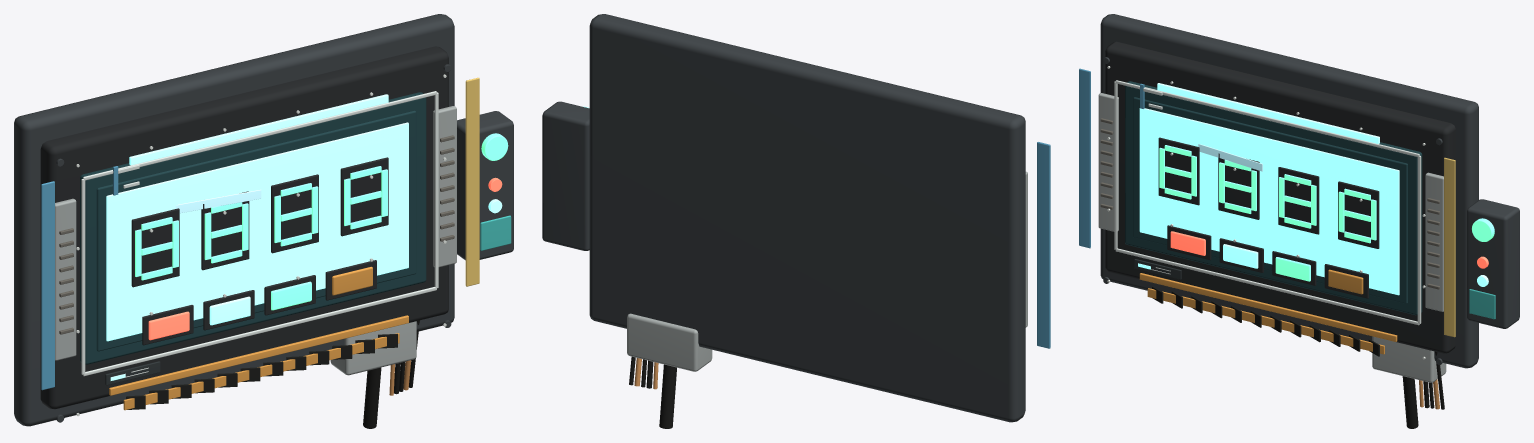
Rendered from hp_terminal_puzzle_big_screen.glb.
3 renders of one model, left to right at view 1: azimuth 30°, elevation 25°; view 2: azimuth 150°, elevation 25°; view 3: azimuth 330°, elevation 25°, orthographic. The views are drawn at different scales.
Parts seen in each view (by area): view 1: terminal_puzzle_big_screen_outer_tv_frame, terminal_puzzle_big_screen_screen_on_panel, terminal_puzzle_big_screen_wall_backplate, terminal_puzzle_big_screen_inner_screen_well, terminal_puzzle_big_screen_screen_off_panel, terminal_puzzle_big_screen_side_power_module, terminal_puzzle_big_screen_right_gold_spine_art_color_block, terminal_puzzle_big_screen_left_speaker_grille, terminal_puzzle_big_screen_left_art_spine_art_color_block, terminal_puzzle_big_screen_right_speaker_grille, terminal_puzzle_big_screen_bottom_warning_rail, terminal_puzzle_big_screen_top_status_rail (+23 smaller); view 2: terminal_puzzle_big_screen_wall_backplate, terminal_puzzle_big_screen_side_power_module, terminal_puzzle_big_screen_lower_cable_box, terminal_puzzle_big_screen_left_art_spine_art_color_block, terminal_puzzle_big_screen_cable_drop; view 3: terminal_puzzle_big_screen_outer_tv_frame, terminal_puzzle_big_screen_screen_on_panel, terminal_puzzle_big_screen_wall_backplate, terminal_puzzle_big_screen_inner_screen_well, terminal_puzzle_big_screen_side_power_module, terminal_puzzle_big_screen_screen_off_panel, terminal_puzzle_big_screen_right_speaker_grille, terminal_puzzle_big_screen_left_speaker_grille, terminal_puzzle_big_screen_left_art_spine_art_color_block, terminal_puzzle_big_screen_right_gold_spine_art_color_block, terminal_puzzle_big_screen_lower_cable_box, terminal_puzzle_big_screen_bottom_warning_rail (+23 smaller).
Part boxes in pixels (x1=…): terminal_puzzle_big_screen_outer_tv_frame: x1=40, y1=46, x2=448, y2=409; terminal_puzzle_big_screen_screen_on_panel: x1=106, y1=122, x2=408, y2=341; terminal_puzzle_big_screen_wall_backplate: x1=14, y1=14, x2=454, y2=426; terminal_puzzle_big_screen_inner_screen_well: x1=80, y1=92, x2=426, y2=364; terminal_puzzle_big_screen_screen_off_panel: x1=96, y1=110, x2=416, y2=351; terminal_puzzle_big_screen_side_power_module: x1=457, y1=111, x2=513, y2=260; terminal_puzzle_big_screen_right_gold_spine_art_color_block: x1=465, y1=77, x2=479, y2=286; terminal_puzzle_big_screen_left_speaker_grille: x1=55, y1=198, x2=76, y2=360; terminal_puzzle_big_screen_left_art_spine_art_color_block: x1=41, y1=181, x2=54, y2=390; terminal_puzzle_big_screen_right_speaker_grille: x1=433, y1=106, x2=456, y2=267; terminal_puzzle_big_screen_bottom_warning_rail: x1=109, y1=315, x2=408, y2=395; terminal_puzzle_big_screen_top_status_rail: x1=129, y1=94, x2=388, y2=165; terminal_puzzle_big_screen_wall_backplate: x1=589, y1=14, x2=1025, y2=422; terminal_puzzle_big_screen_side_power_module: x1=542, y1=101, x2=589, y2=250; terminal_puzzle_big_screen_lower_cable_box: x1=627, y1=313, x2=712, y2=371; terminal_puzzle_big_screen_left_art_spine_art_color_block: x1=1037, y1=142, x2=1050, y2=348; terminal_puzzle_big_screen_cable_drop: x1=659, y1=364, x2=676, y2=428; terminal_puzzle_big_screen_outer_tv_frame: x1=1105, y1=41, x2=1455, y2=353; terminal_puzzle_big_screen_screen_on_panel: x1=1139, y1=108, x2=1399, y2=295; terminal_puzzle_big_screen_wall_backplate: x1=1100, y1=14, x2=1478, y2=368; terminal_puzzle_big_screen_inner_screen_well: x1=1125, y1=81, x2=1422, y2=315; terminal_puzzle_big_screen_side_power_module: x1=1467, y1=199, x2=1519, y2=328; terminal_puzzle_big_screen_screen_off_panel: x1=1133, y1=97, x2=1407, y2=303; terminal_puzzle_big_screen_right_speaker_grille: x1=1425, y1=172, x2=1443, y2=311; terminal_puzzle_big_screen_left_speaker_grille: x1=1098, y1=93, x2=1118, y2=231; terminal_puzzle_big_screen_left_art_spine_art_color_block: x1=1079, y1=68, x2=1090, y2=248; terminal_puzzle_big_screen_right_gold_spine_art_color_block: x1=1444, y1=157, x2=1455, y2=337; terminal_puzzle_big_screen_lower_cable_box: x1=1372, y1=336, x2=1446, y2=382; terminal_puzzle_big_screen_bottom_warning_rail: x1=1139, y1=273, x2=1397, y2=341.
Bounding box in the file's own units: 2.86 × 2.23 × 0.3968.
